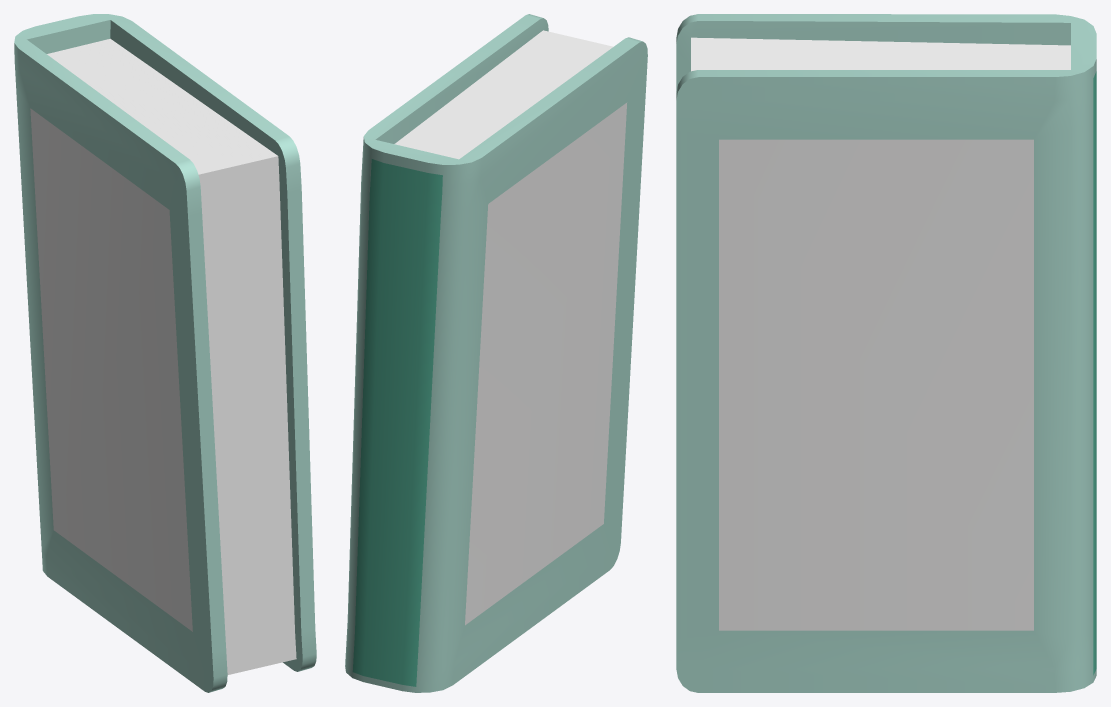
File: book_12.fbx
The picture shows the model from 3 angles, left to right: view 1: azimuth 30°, elevation 25°; view 2: azimuth 150°, elevation 25°; view 3: azimuth 270°, elevation 25°; orthographic projection. The views are drawn at different scales.
Parts seen in each view (by area): view 1: book_12; view 2: book_12; view 3: book_12.
Boxes of the visible parts, x1=… form: book_12: x1=14, y1=14, x2=316, y2=692; book_12: x1=345, y1=14, x2=647, y2=692; book_12: x1=676, y1=14, x2=1096, y2=692.
Size of the model in its own units: 0.095 by 0.3684 by 0.231.
